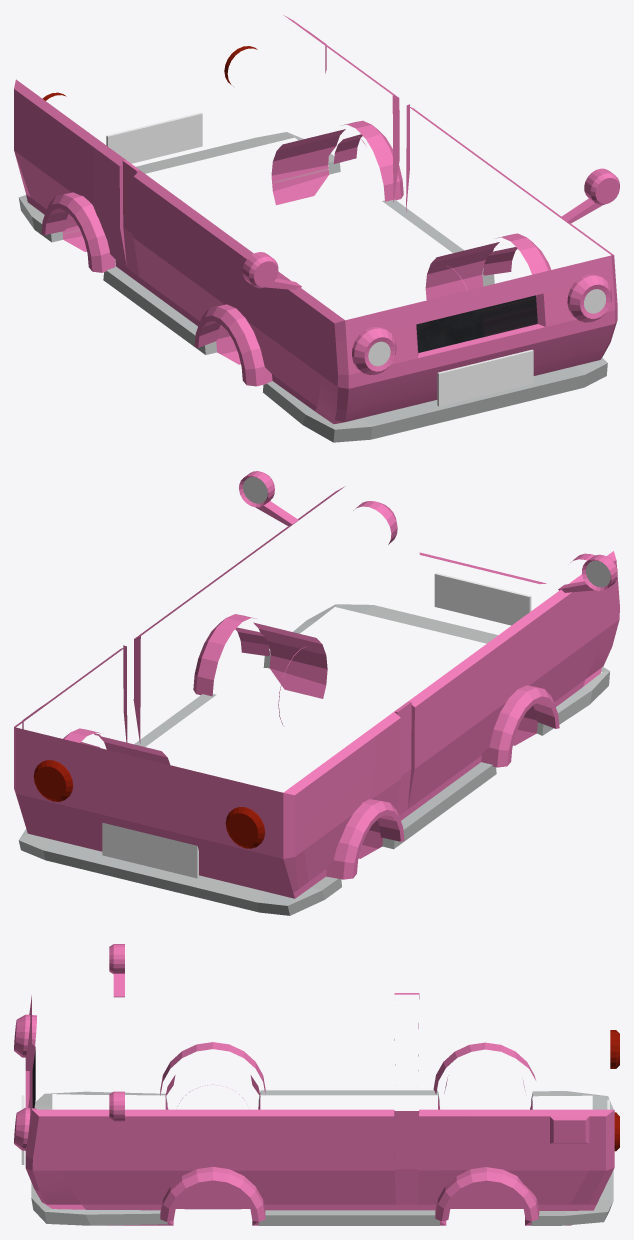
The model's file is ROUND-BOTTOM-Ft9Pv7v_.glb.
3 views of the same model, one above another, from view 1: azimuth 30°, elevation 25°; view 2: azimuth 150°, elevation 25°; view 3: azimuth 270°, elevation 25° (orthographic). The views are drawn at different scales.
Size of the model in its own units: 2.09 by 0.9598 by 3.34.
Materials: 2 (2 with a texture image).
